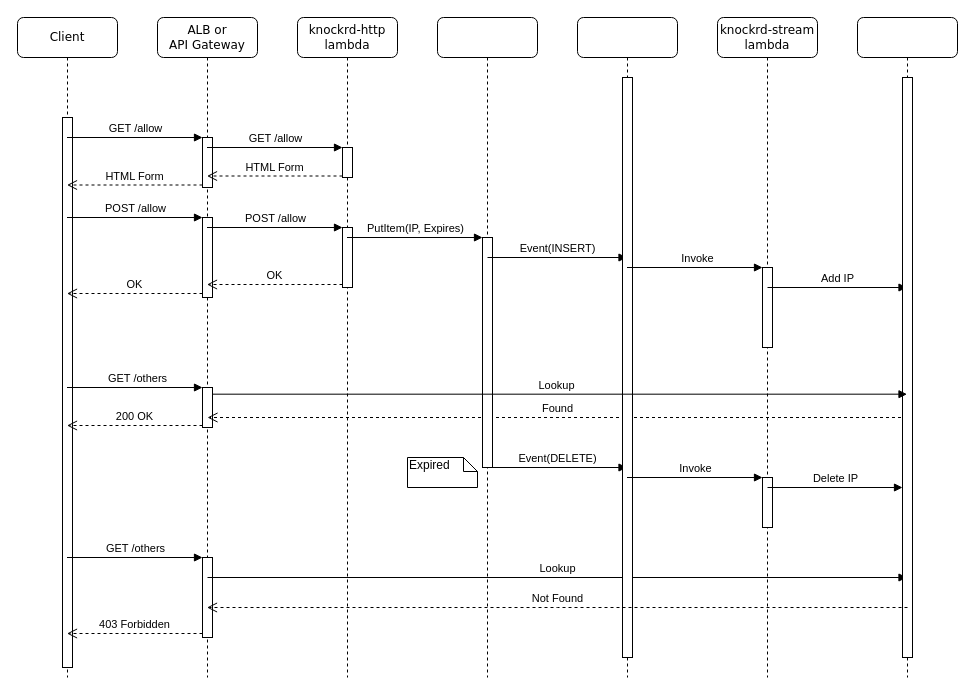
Some shapes in this 975 by 695 pixel diagram are drawn without their labels. The box of each missing label's shape, as (x1, y1, x2, y2) in pixels:
AWS WAFv2 IP Set: (856, 16, 958, 678)
DynamoDB: (436, 16, 538, 678)
DynamoDB Streams: (576, 16, 678, 678)
